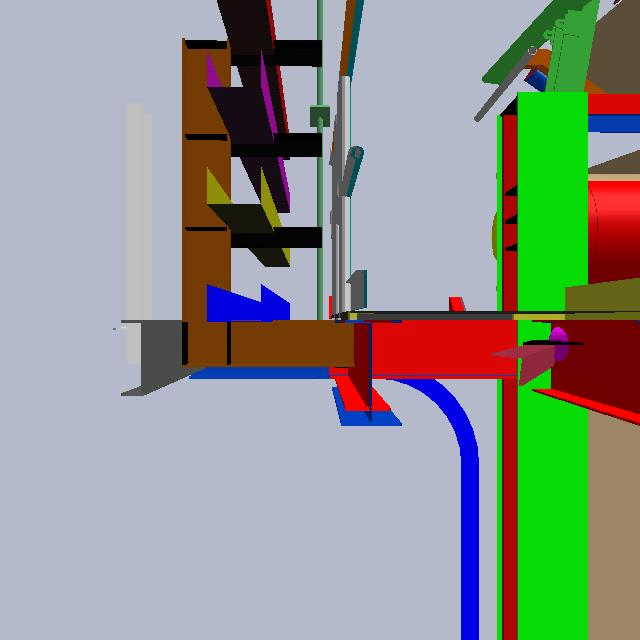Poste: (311, 1, 325, 336)
